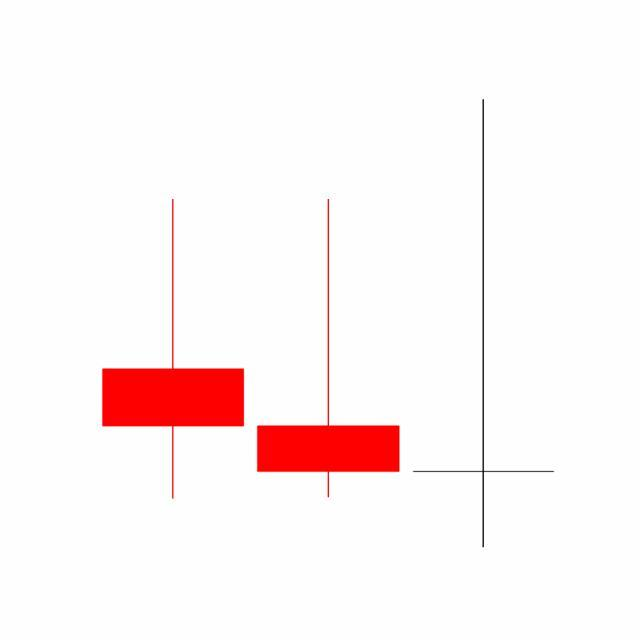Gravestone Doji: (250, 196, 407, 502)
